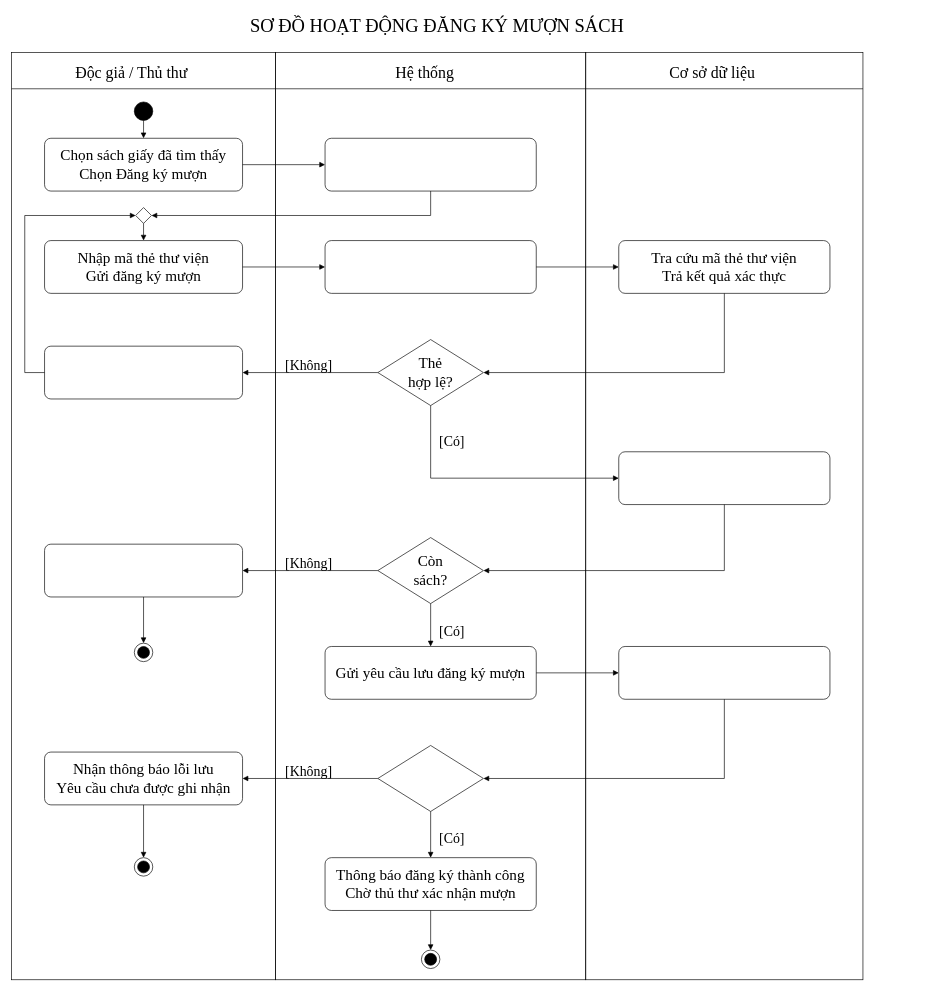
The diagram is 937 pixels wide and 991 high, and some of its shapes have lost their labels. Here are the shapes that lost their labels. From the top down, the box of each, then its label:
(324, 138, 536, 191): Hiển thị thông tin sách Yêu cầu nhập mã thẻ thư viện
(324, 240, 536, 293): Gửi mã thẻ cần xác thực
(44, 346, 243, 399): Nhận thông báo Mã thẻ không hợp lệ
(618, 451, 830, 505): Tra cứu số lượng sách còn Trả kết quả kiểm tra
(44, 544, 243, 597): Nhận thông báo Sách đã hết
(618, 646, 830, 699): Lưu yêu cầu mượn sách Trả kết quả lưu
(377, 745, 483, 811): Lưu được?
